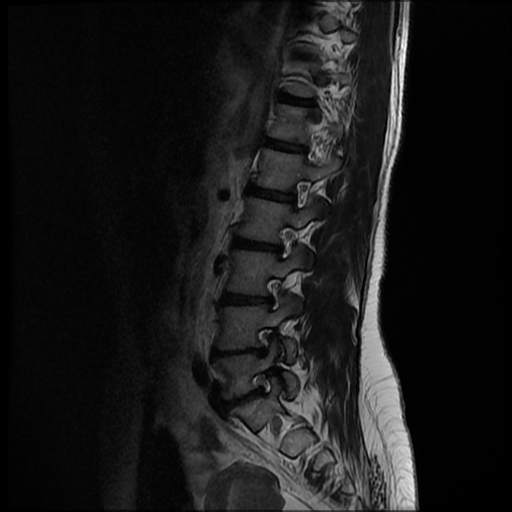LFS0: (253, 266, 289, 319), (242, 320, 283, 363), (267, 219, 303, 265), (283, 170, 316, 220)
LFS1: (246, 361, 283, 403)
